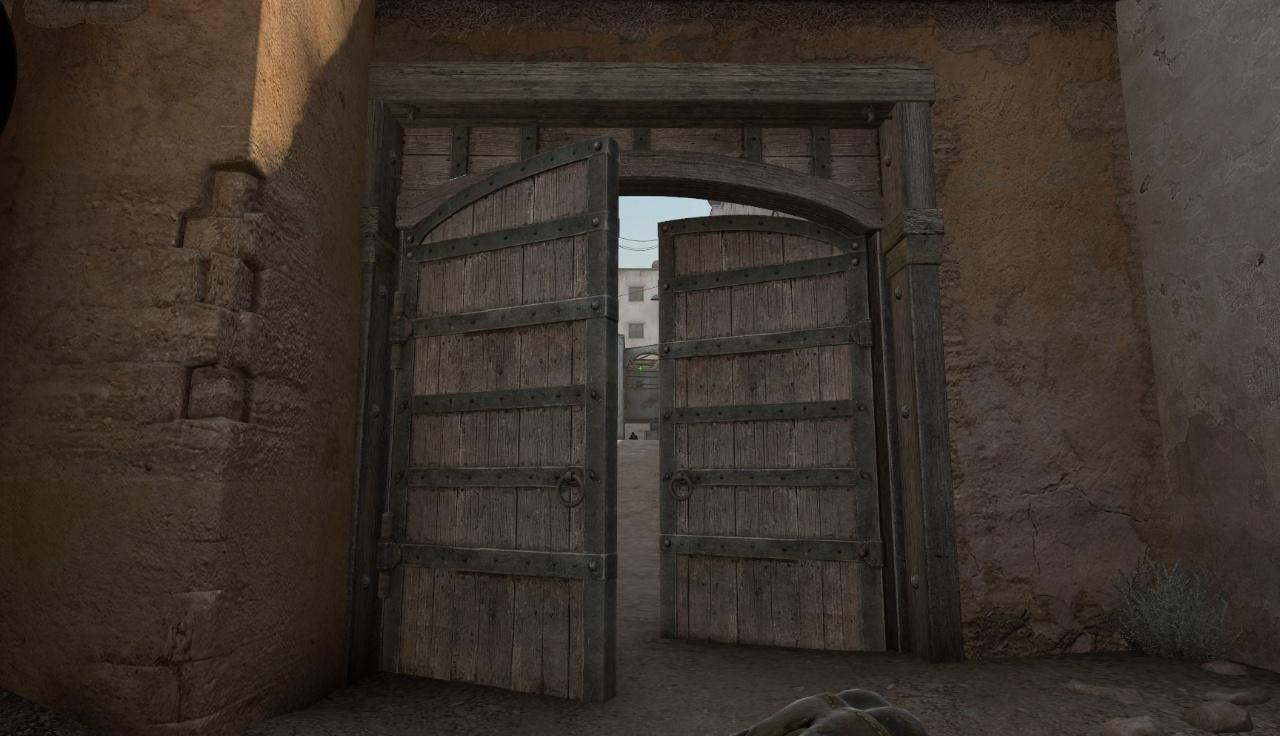tt: (629, 432, 638, 440)
